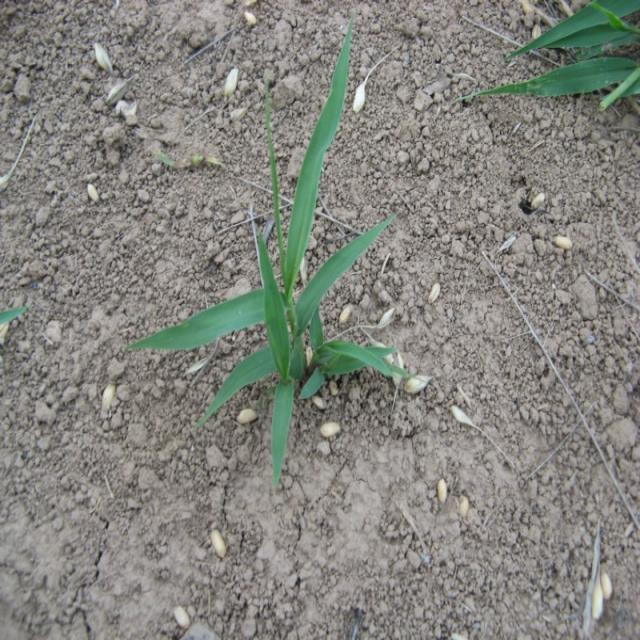bg: (128, 26, 415, 481)
